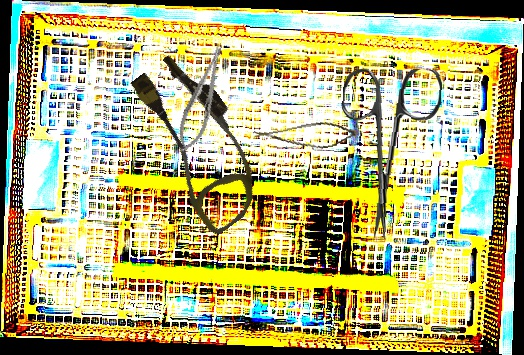Cannula: (111, 45, 286, 238)
Iris Scissors: (333, 63, 443, 243)
Micro Scissor: (250, 110, 360, 163)
Needle Holder: (171, 39, 234, 158)
